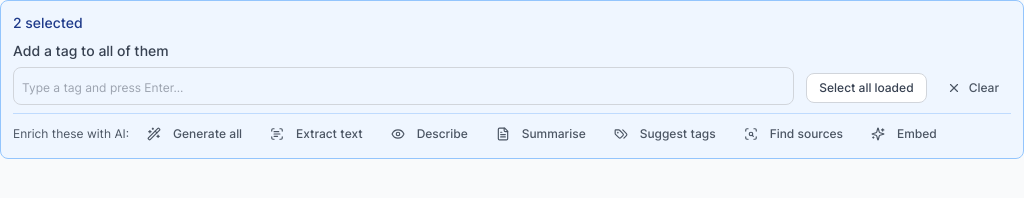
SelectionBar enrichment › shows a refusal as an error rather than a signpost
Click the button "Describe" at (429, 134), box top-left (381, 122), bottom-right (478, 146)
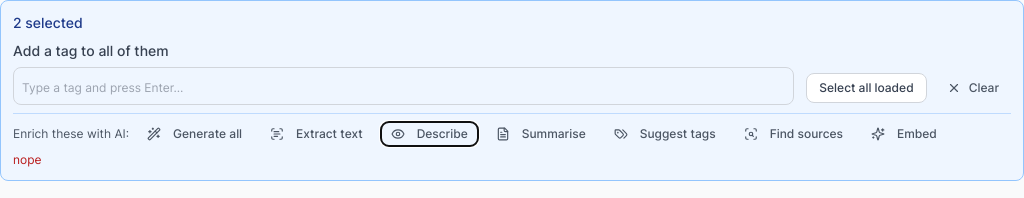
Check: the text "nope" is shown, box top-left (13, 152), bottom-right (42, 167)
